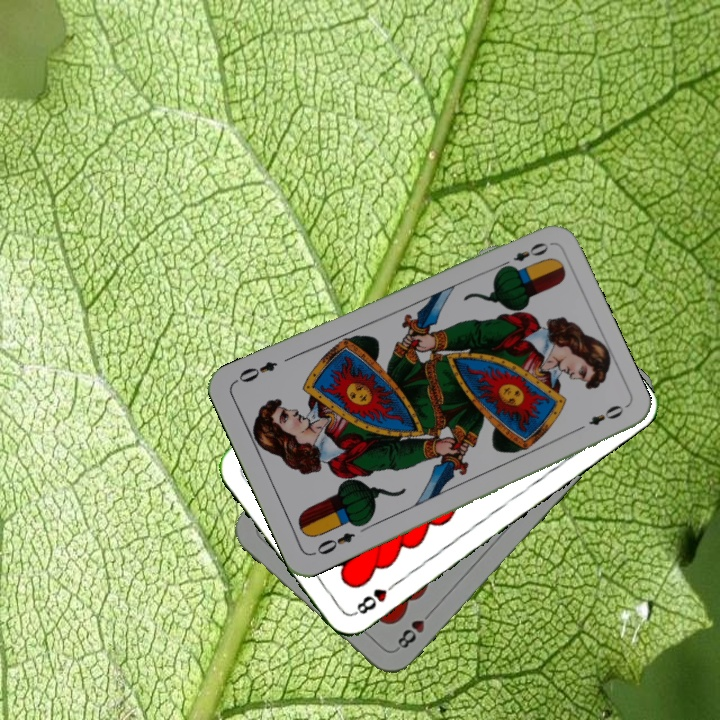EO: (496, 238, 551, 272), (309, 528, 358, 558)
H8: (350, 577, 401, 618), (393, 605, 436, 653)
